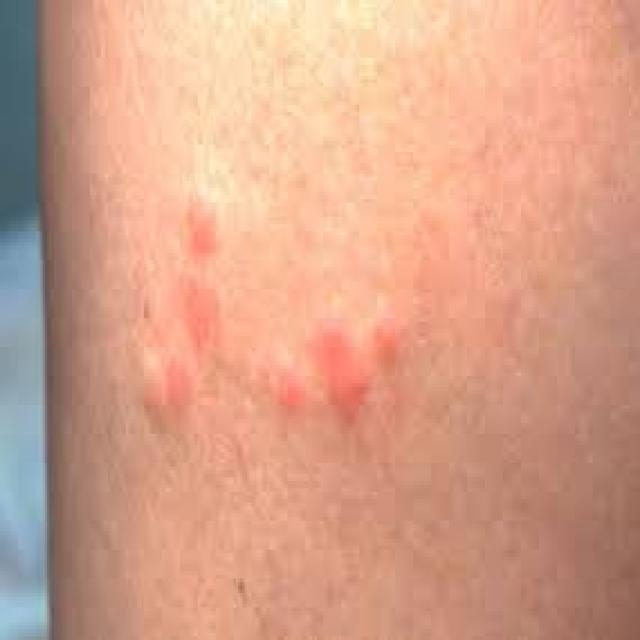kan emici bocekler: (278, 301, 396, 420), (141, 353, 192, 425), (183, 273, 217, 343), (188, 201, 223, 257)
